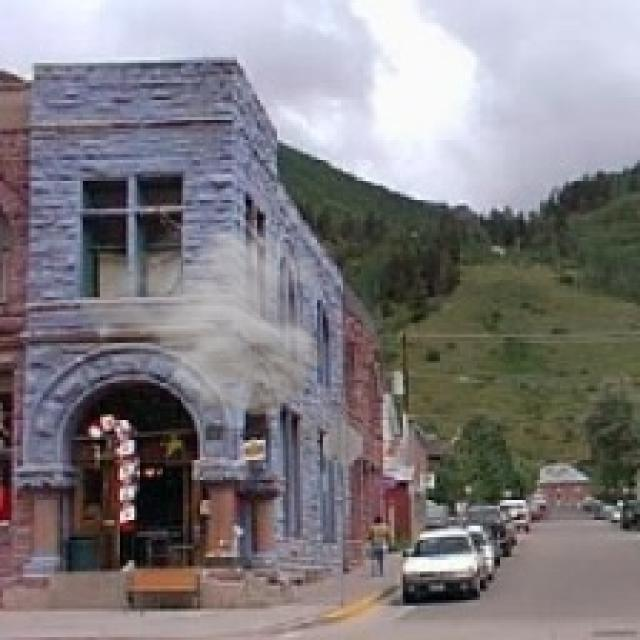smoke: (68, 217, 352, 434)
